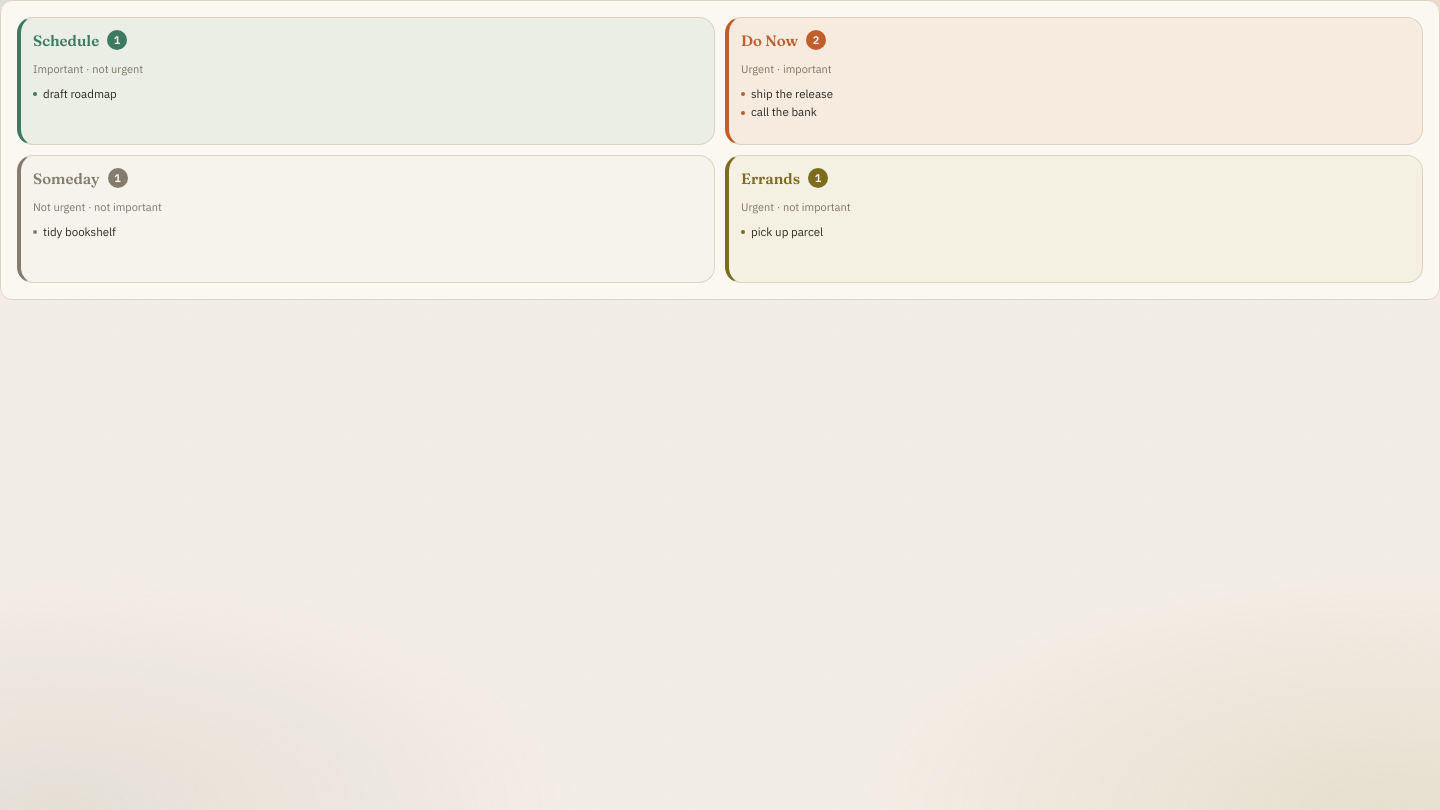
MobileMatrix › move to quadrant › opens the quadrant picker from a focus row
The image size is (1440, 810).
What coordinates should you click on to do the following:
click the button with aria-label "Do Now, 2 tasks"
I would click on:
 (770, 40)
Its box is [725,17,1423,145].
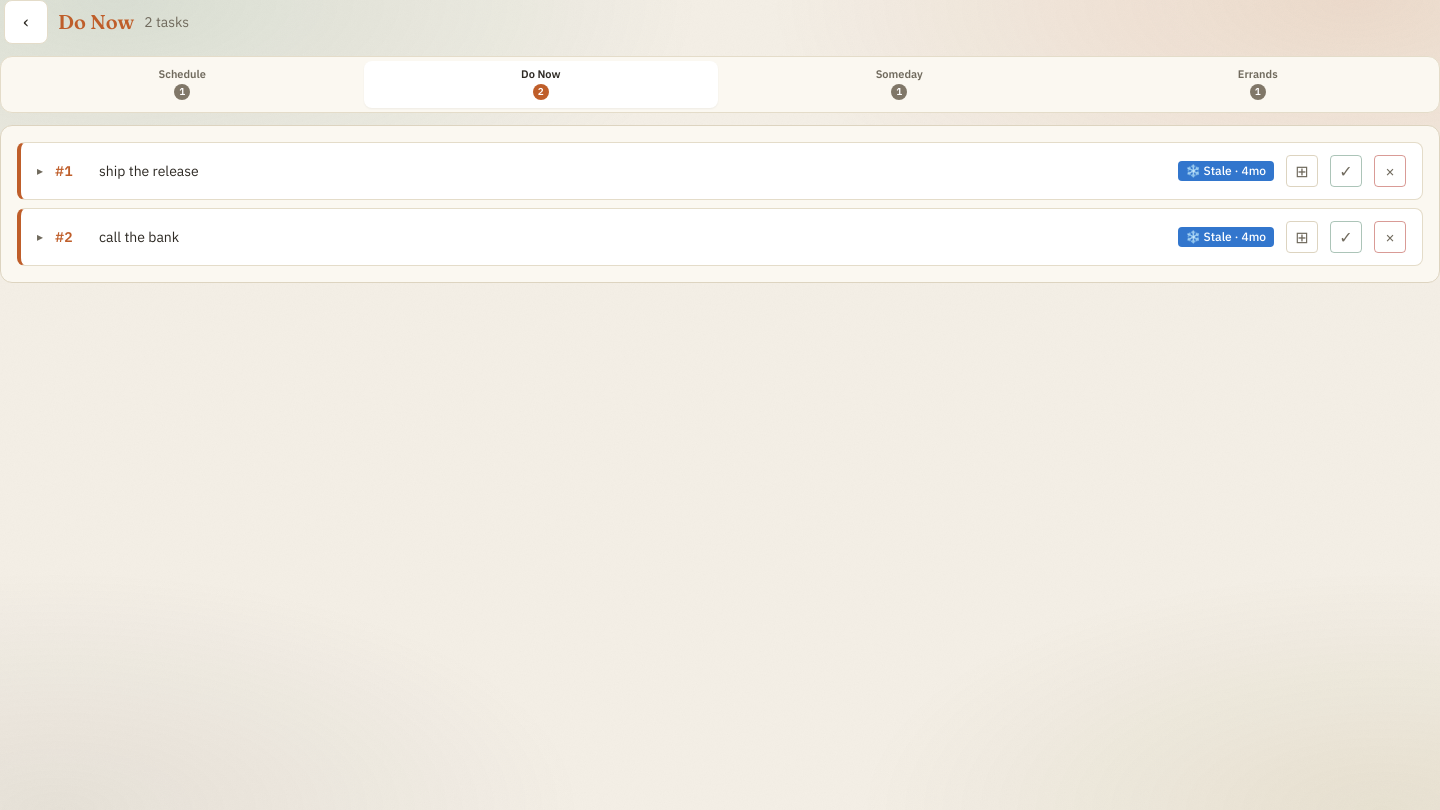
What coordinates should you click on to do the following:
click the button named "Move to quadrant"
I would click on:
 (1302, 171)
Its box is [1286,155,1318,187].
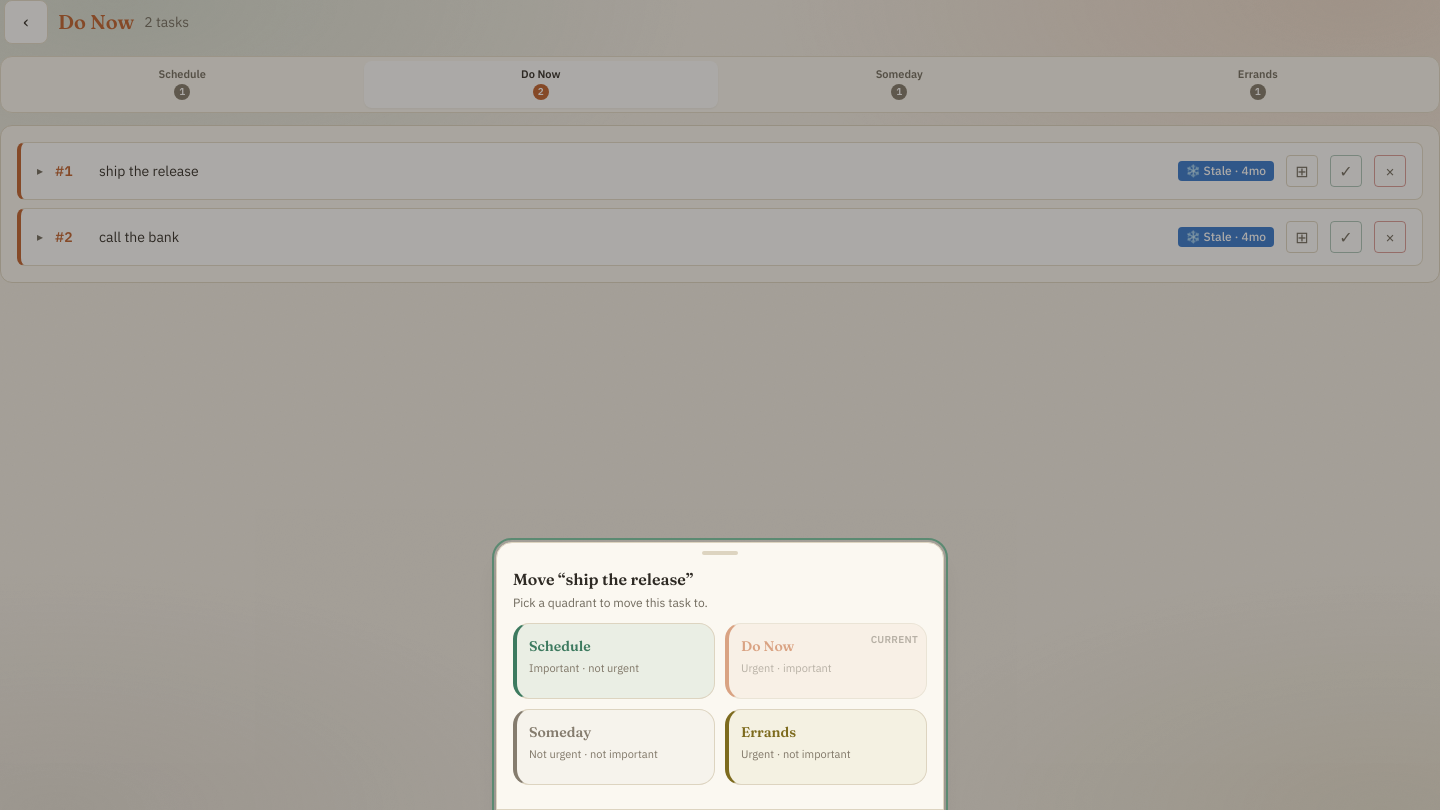
Result: the button with aria-label "Move to Schedule" is shown at [513,623,715,699]
Result: the button with aria-label "Move to Errands" is shown at [725,709,927,785]
